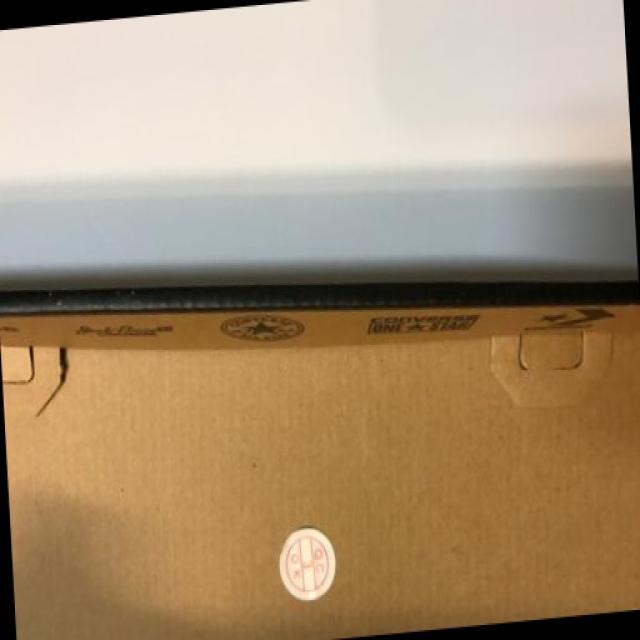carton: (5, 4, 640, 634)
